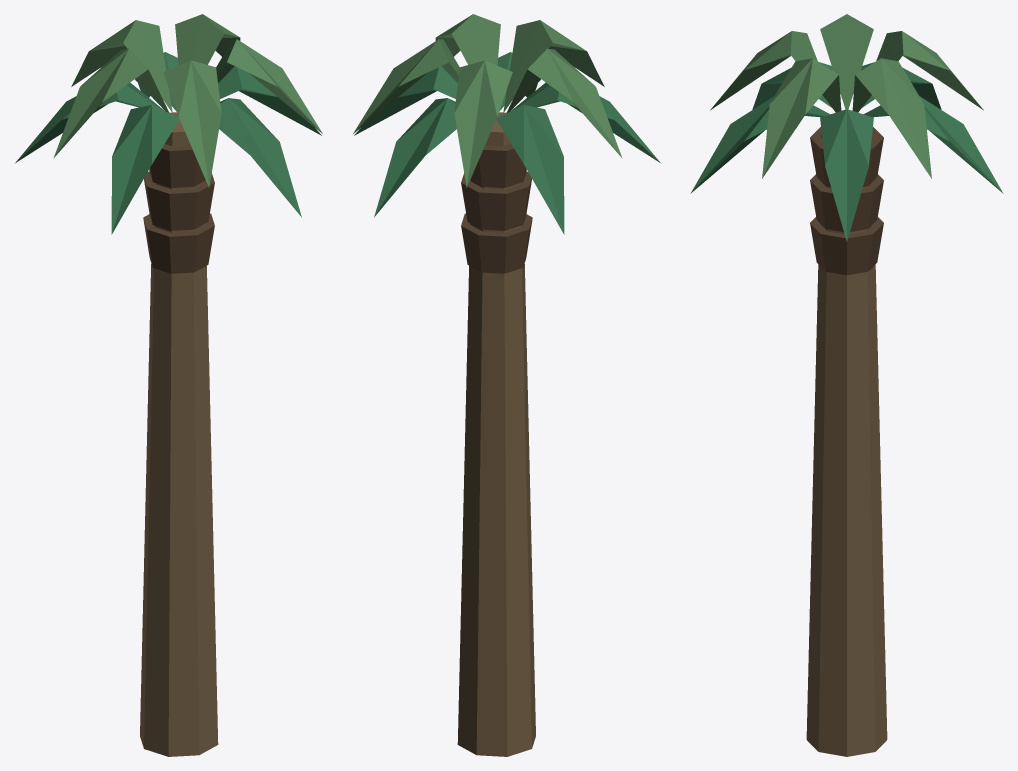
Rendered from prop-tree-oil-palm.glb.
3 views of the same model, side by side, from view 1: azimuth 30°, elevation 25°; view 2: azimuth 150°, elevation 25°; view 3: azimuth 270°, elevation 25° (orthographic).
Visible parts, largest first — view 1: tree-oil-palm; view 2: tree-oil-palm; view 3: tree-oil-palm.
Boxes of the visible parts, left/top/right/bottom form: tree-oil-palm: left=15, top=14, right=322, bottom=756; tree-oil-palm: left=353, top=14, right=660, bottom=756; tree-oil-palm: left=690, top=14, right=1003, bottom=756.
Bounding box in the file's own units: 0.92 × 2.3 × 0.932.
